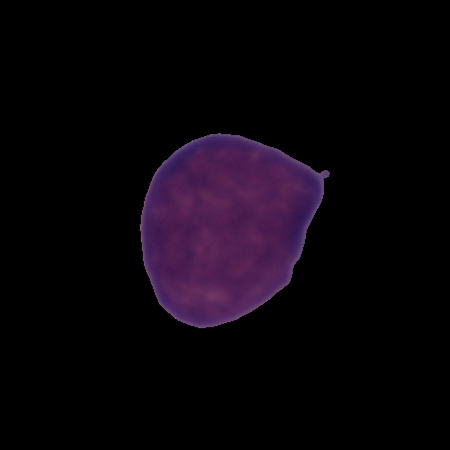HEM: (135, 128, 335, 332)
